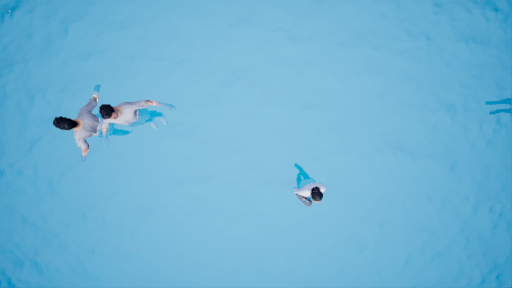person: (53, 90, 124, 157), (104, 88, 171, 147), (288, 155, 333, 213)
